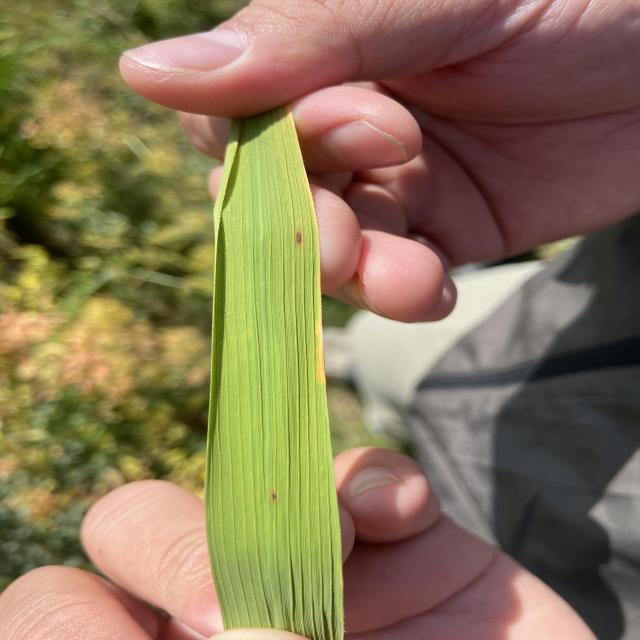Dom nau: (295, 232, 302, 244), (272, 494, 277, 499)
